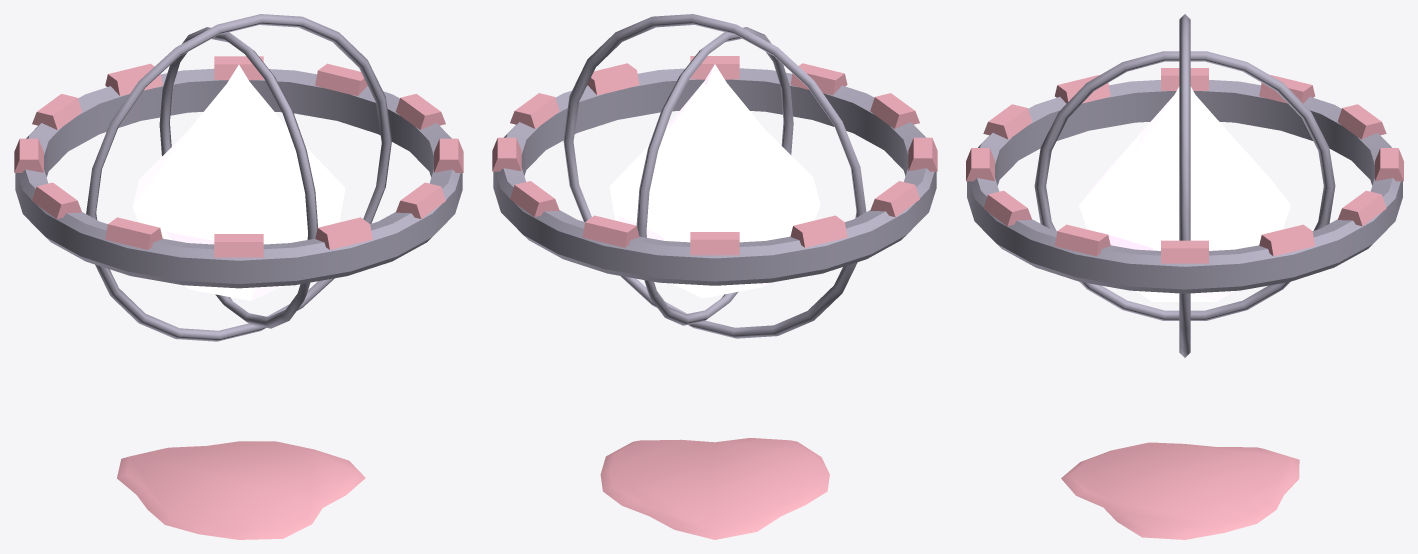
The model's file is core_pigment.glb.
The picture shows the model from 3 angles, left to right: view 1: azimuth 30°, elevation 25°; view 2: azimuth 150°, elevation 25°; view 3: azimuth 270°, elevation 25°; orthographic projection. The views are drawn at different scales.
Parts seen in each view (by area): view 1: Ring, Droplet, Puddle, Gimbal_A, Gimbal_B, Tick_00, Tick_02, Tick_01, Tick_08, Tick_03, Tick_05, Tick_09 (+5 smaller); view 2: Ring, Droplet, Puddle, Gimbal_A, Gimbal_B, Tick_04, Tick_06, Tick_05, Tick_10, Tick_01, Tick_03, Tick_07 (+5 smaller); view 3: Ring, Droplet, Puddle, Gimbal_B, Gimbal_A, Tick_08, Tick_10, Tick_09, Tick_07, Tick_11, Tick_01, Tick_05 (+5 smaller).
Part boxes in pixels (<box>): Ring: <box>15,68,462,288</box>; Droplet: <box>132,65,345,300</box>; Puddle: <box>117,441,365,539</box>; Gimbal_A: <box>86,14,391,341</box>; Gimbal_B: <box>159,27,317,328</box>; Tick_00: <box>315,217,372,249</box>; Tick_02: <box>105,217,162,249</box>; Tick_01: <box>214,234,263,257</box>; Tick_08: <box>315,63,367,95</box>; Tick_03: <box>32,182,81,218</box>; Tick_05: <box>32,94,82,129</box>; Tick_09: <box>395,94,445,129</box>; Ring: <box>493,68,936,285</box>; Droplet: <box>609,64,820,298</box>; Puddle: <box>600,438,829,539</box>; Gimbal_A: <box>563,14,866,338</box>; Gimbal_B: <box>636,27,793,325</box>; Tick_04: <box>790,215,847,247</box>; Tick_06: <box>582,215,639,247</box>; Tick_05: <box>690,232,739,255</box>; Tick_10: <box>587,63,639,95</box>; Tick_01: <box>870,93,919,128</box>; Tick_03: <box>870,181,919,217</box>; Tick_07: <box>510,181,559,217</box>; Ring: <box>967,80,1402,293</box>; Droplet: <box>1079,86,1290,301</box>; Puddle: <box>1061,442,1299,539</box>; Gimbal_B: <box>1034,51,1335,320</box>; Gimbal_A: <box>1179,14,1190,357</box>; Tick_08: <box>1259,224,1315,256</box>; Tick_10: <box>1054,224,1110,256</box>; Tick_09: <box>1161,240,1208,263</box>; Tick_07: <box>1337,190,1386,226</box>; Tick_11: <box>983,190,1032,226</box>; Tick_01: <box>983,104,1032,139</box>; Tick_05: <box>1337,104,1386,139</box>.
Size of the model in its own units: 0.908 by 1.04 by 0.908.
